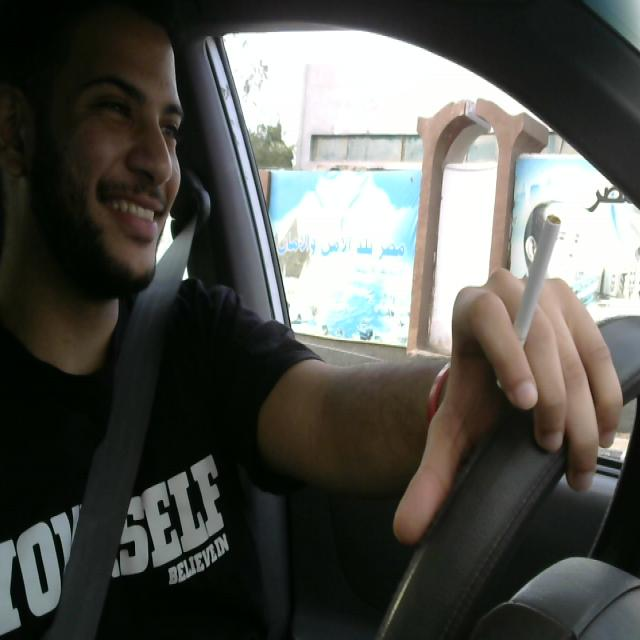smoking: (490, 210, 563, 367)
